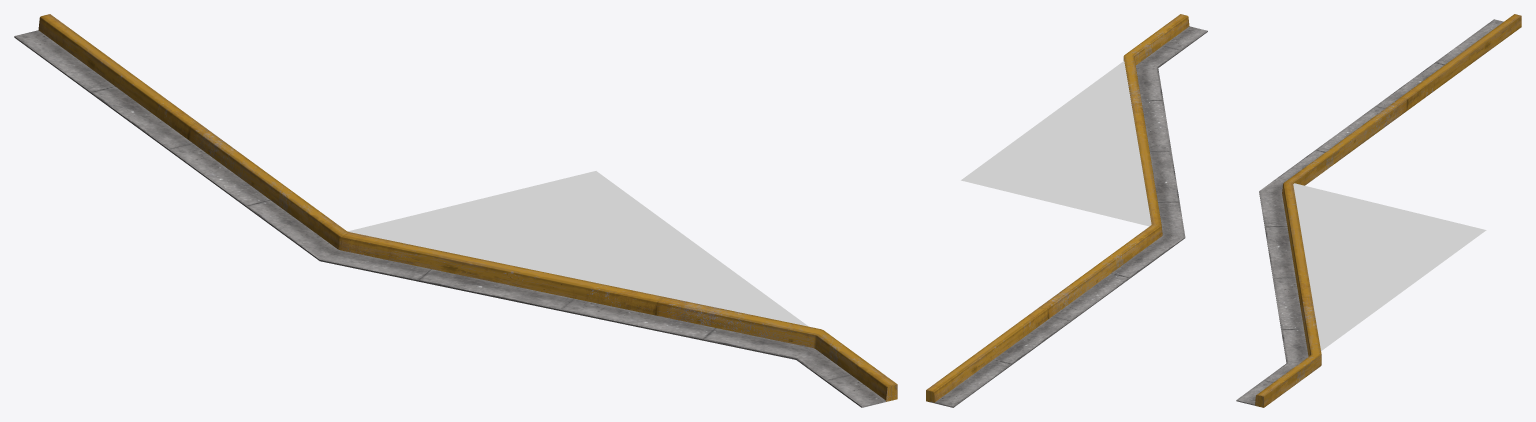
File: MB_Curbstone_Yellow_Angle_01.fbx
The picture shows the model from 3 angles, left to right: view 1: azimuth 30°, elevation 25°; view 2: azimuth 150°, elevation 25°; view 3: azimuth 330°, elevation 25°; orthographic projection. The views are drawn at different scales.
Visible parts, largest first — view 1: MB_Curbstone_Yellow_Angle_01; view 2: MB_Curbstone_Yellow_Angle_01; view 3: MB_Curbstone_Yellow_Angle_01.
Boxes of the visible parts, x1=… form: MB_Curbstone_Yellow_Angle_01: x1=14, y1=14, x2=897, y2=407; MB_Curbstone_Yellow_Angle_01: x1=926, y1=14, x2=1207, y2=407; MB_Curbstone_Yellow_Angle_01: x1=1236, y1=14, x2=1521, y2=407.
Size of what is drawn, in the model's own units: 228 by 11 by 800.
